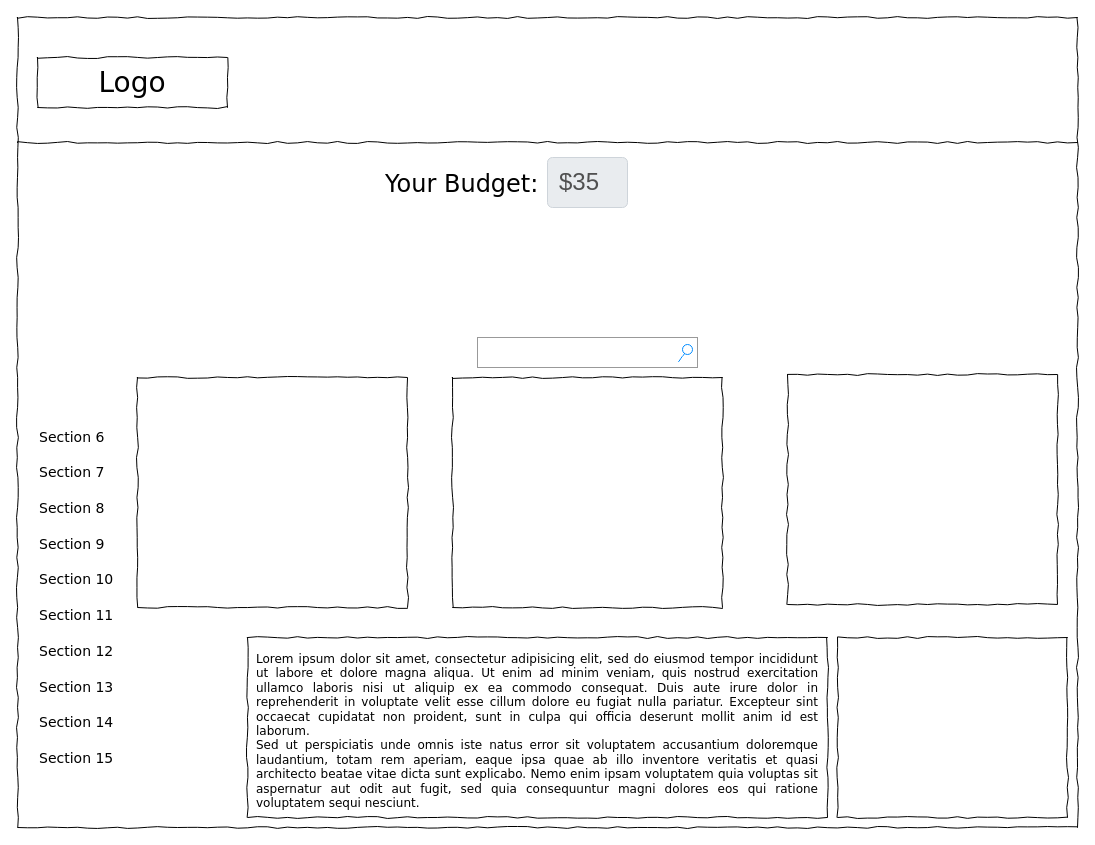
Some shapes in this 1095 by 845 pixel diagram are drawn without their labels. Here are the shapes that lost their labels. From the top down, the centre of each, then its label:
[587,352]: Search
[952,727]: External Links
